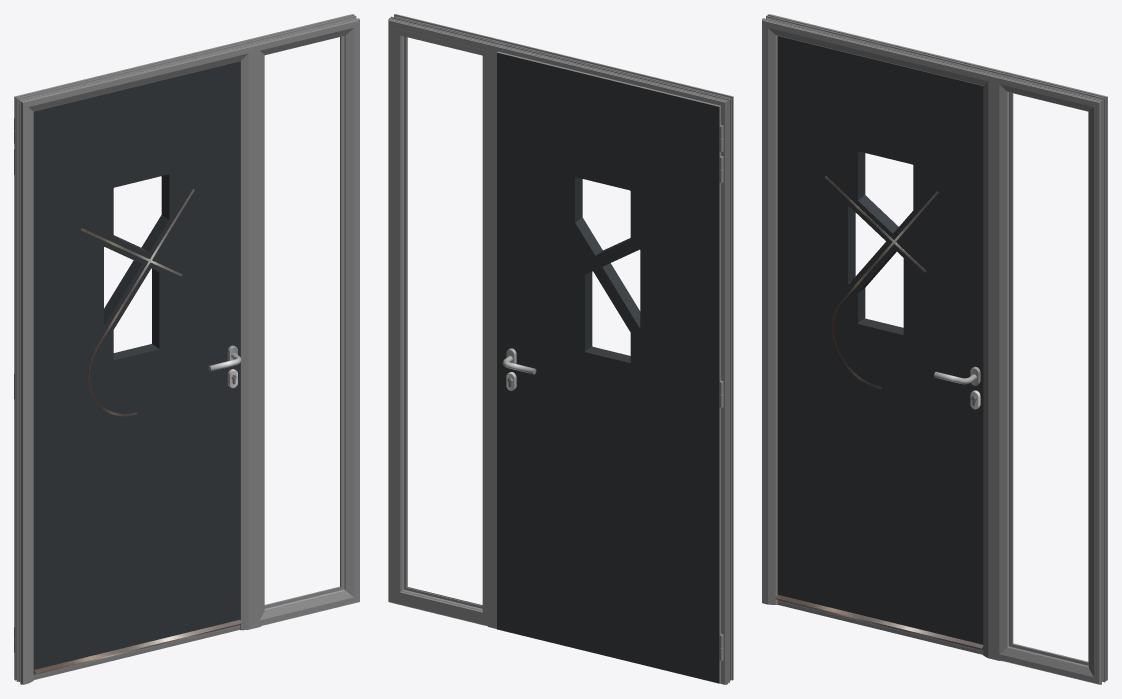
3 views of the same model, side by side, from view 1: azimuth 30°, elevation 25°; view 2: azimuth 150°, elevation 25°; view 3: azimuth 330°, elevation 25° (orthographic).
Parts seen in each view (by area): view 1: bloco_126, Rectangle002, Line004, Object, Object001, Line005, alunox_077, Rectangle005, Rectangle003; view 2: bloco_126, Rectangle002, Rectangle003, Line004, Object001, Rectangle004, Object; view 3: bloco_126, Rectangle002, Line004, Object001, Object, Line005, Rectangle003, alunox_077, Rectangle005.
Part boxes in pixels (bbox=[...]): bloco_126: bbox=[33, 61, 240, 671]; Rectangle002: bbox=[14, 14, 359, 684]; Line004: bbox=[240, 46, 264, 630]; Object: bbox=[33, 35, 346, 680]; Object001: bbox=[264, 36, 344, 608]; Line005: bbox=[33, 620, 242, 674]; alunox_077: bbox=[80, 189, 194, 416]; Rectangle005: bbox=[33, 625, 240, 679]; Rectangle003: bbox=[264, 37, 340, 605]; bloco_126: bbox=[497, 52, 719, 683]; Rectangle002: bbox=[388, 14, 733, 684]; Rectangle003: bbox=[394, 28, 487, 619]; Line004: bbox=[488, 41, 504, 628]; Object001: bbox=[401, 36, 482, 610]; Rectangle004: bbox=[496, 51, 720, 683]; Object: bbox=[404, 36, 482, 608]; bloco_126: bbox=[777, 36, 983, 644]; Rectangle002: bbox=[762, 14, 1107, 684]; Line004: bbox=[983, 77, 1007, 661]; Object001: bbox=[1007, 92, 1088, 665]; Object: bbox=[776, 35, 1088, 667]; Line005: bbox=[775, 595, 983, 649]; Rectangle003: bbox=[1012, 93, 1087, 662]; alunox_077: bbox=[824, 176, 938, 389]; Rectangle005: bbox=[777, 600, 983, 654].
Size of the model in its own units: 1307 by 2150 by 192.
7 materials, 4 textured.
